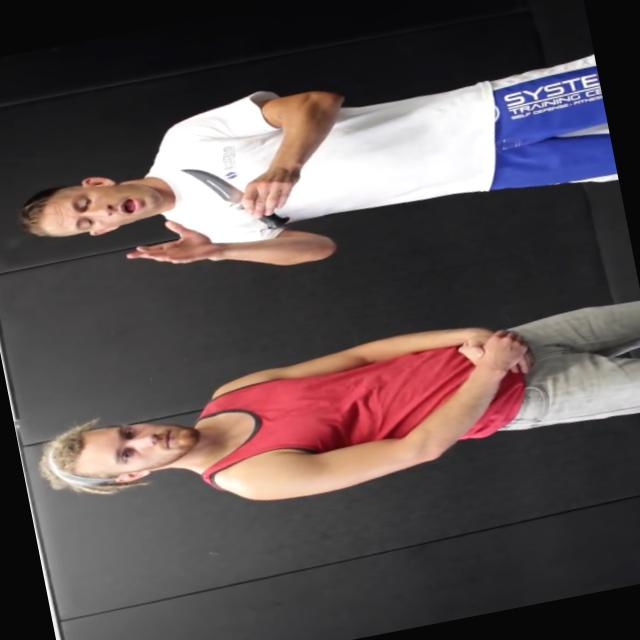knife: (169, 146, 297, 252)
